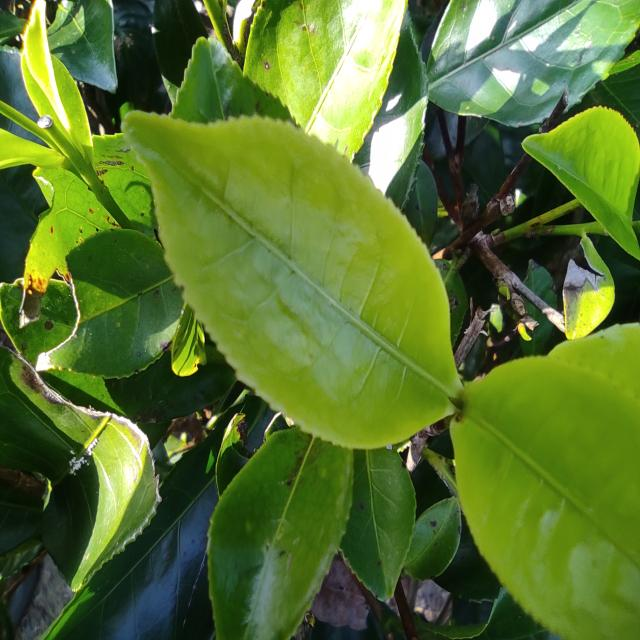Category B(2-4 days): (110, 80, 467, 460)
